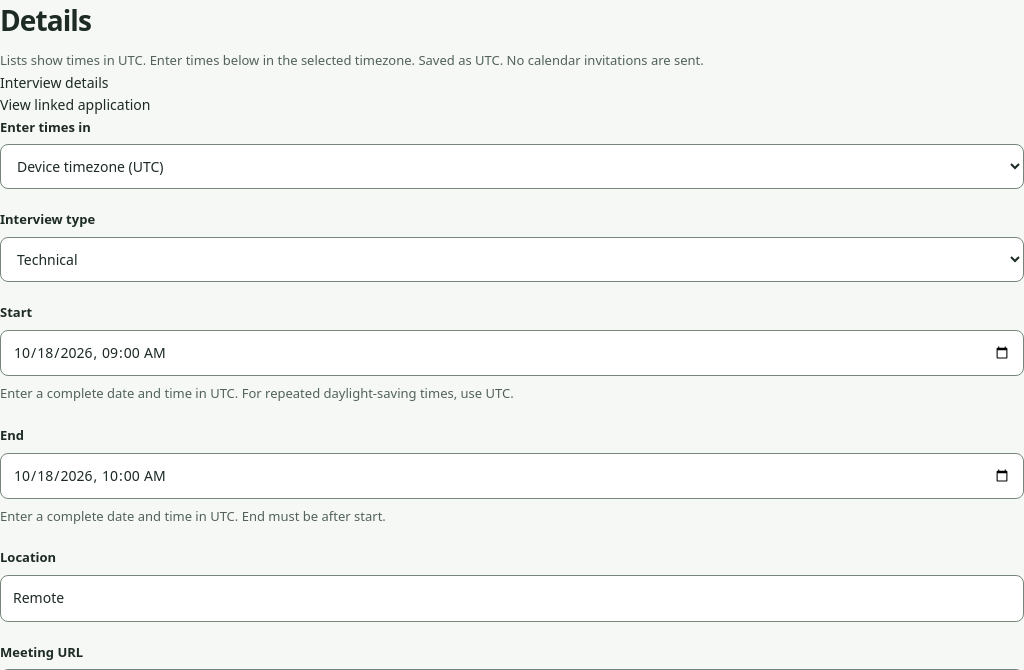
Scenario: rejects an inverted interview time range before sending a mutation
Check: the field showing "Remote" is shown, box [0,575,1023,622]
Replace the text in the field labelled "End" with "2026-01-01T10:00" at (512, 476), box [0,453,1023,499]
(page scrolled)
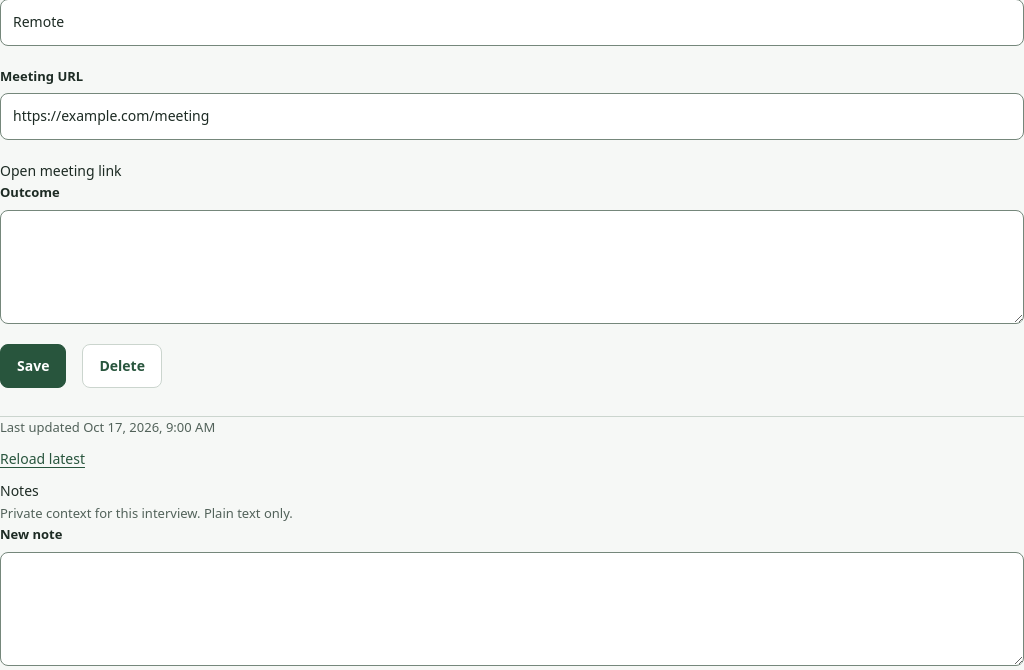
Click the button "Save" at (33, 366), box [0,344,66,388]
(page scrolled)
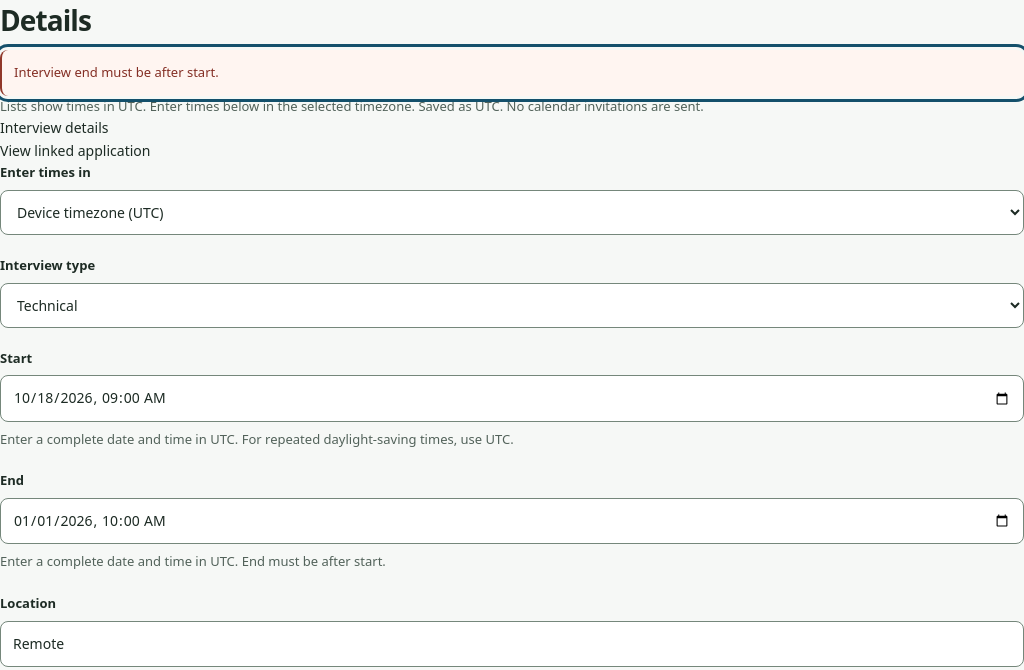
Check: the message shows "end must be after start", box [14,63,219,81]
